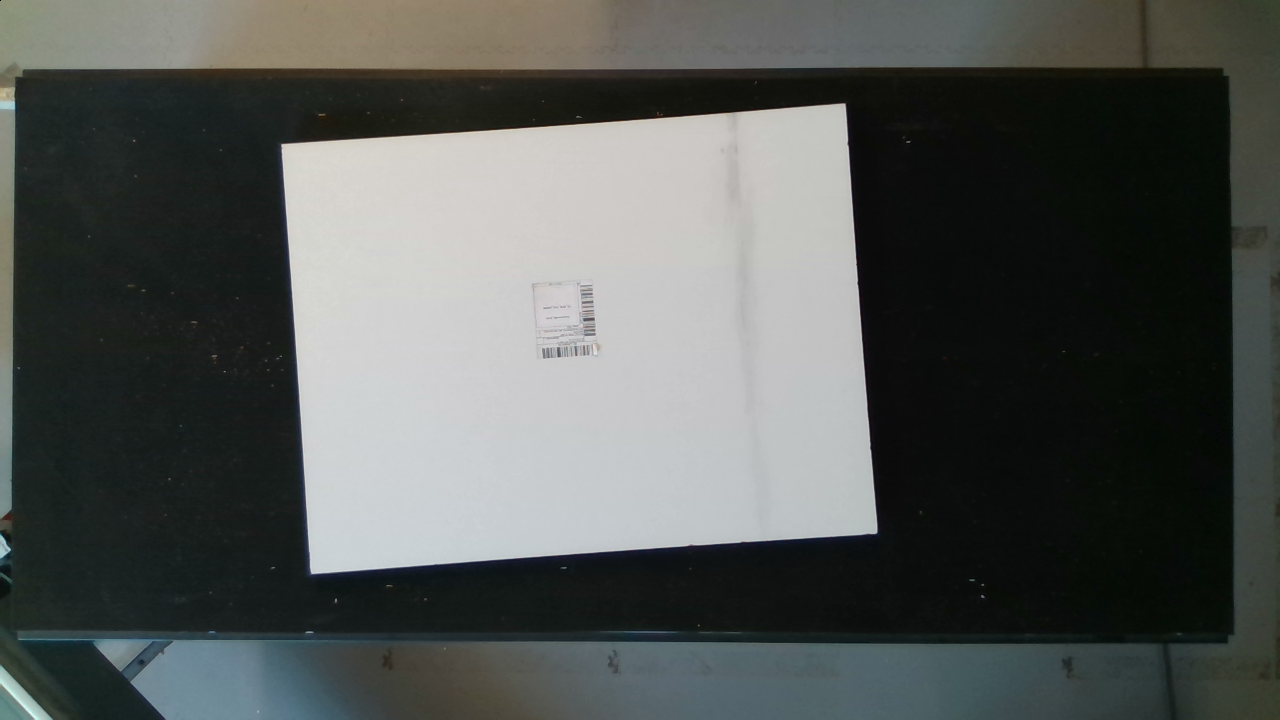barcode: (526, 275, 611, 364)
part2: (264, 96, 893, 577)
